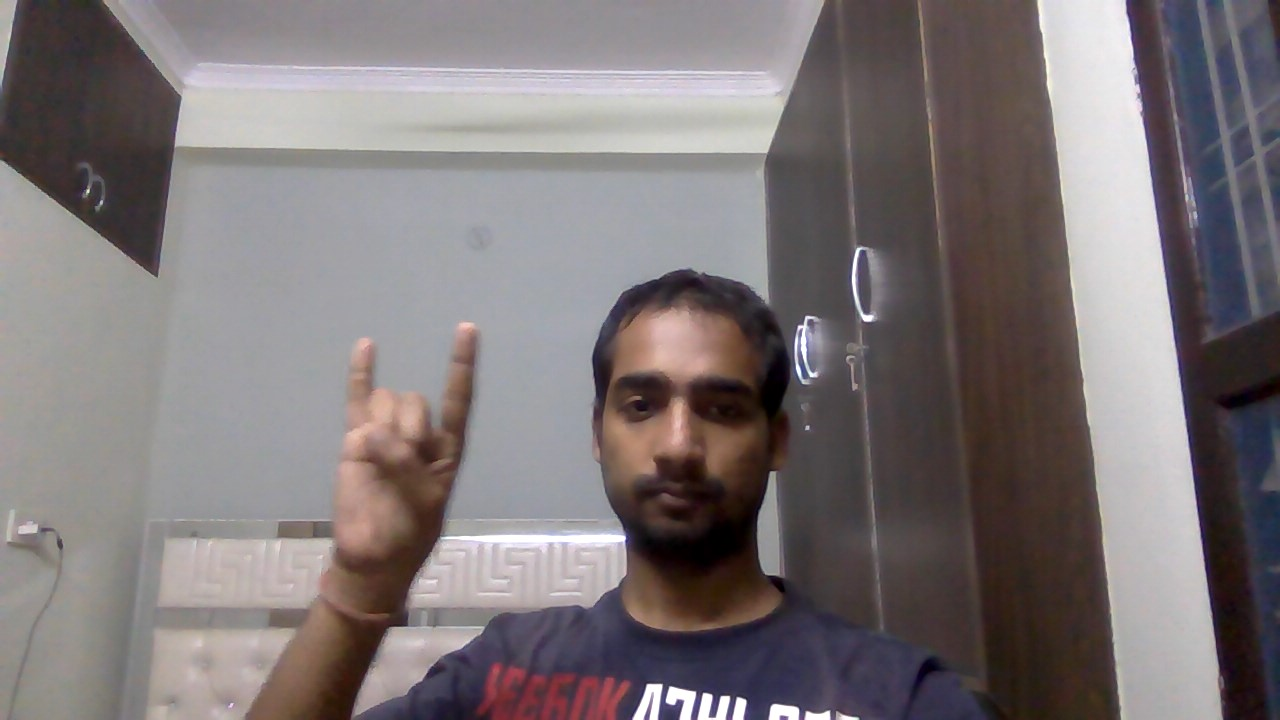Select All: (314, 315, 498, 579)
